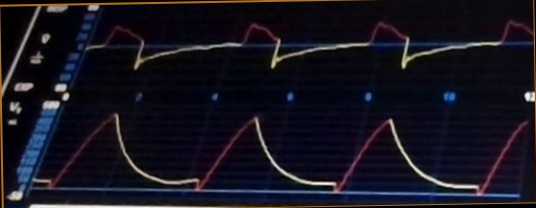Flow: (90, 17, 534, 76)
Leakage Volume: (36, 109, 526, 196)
